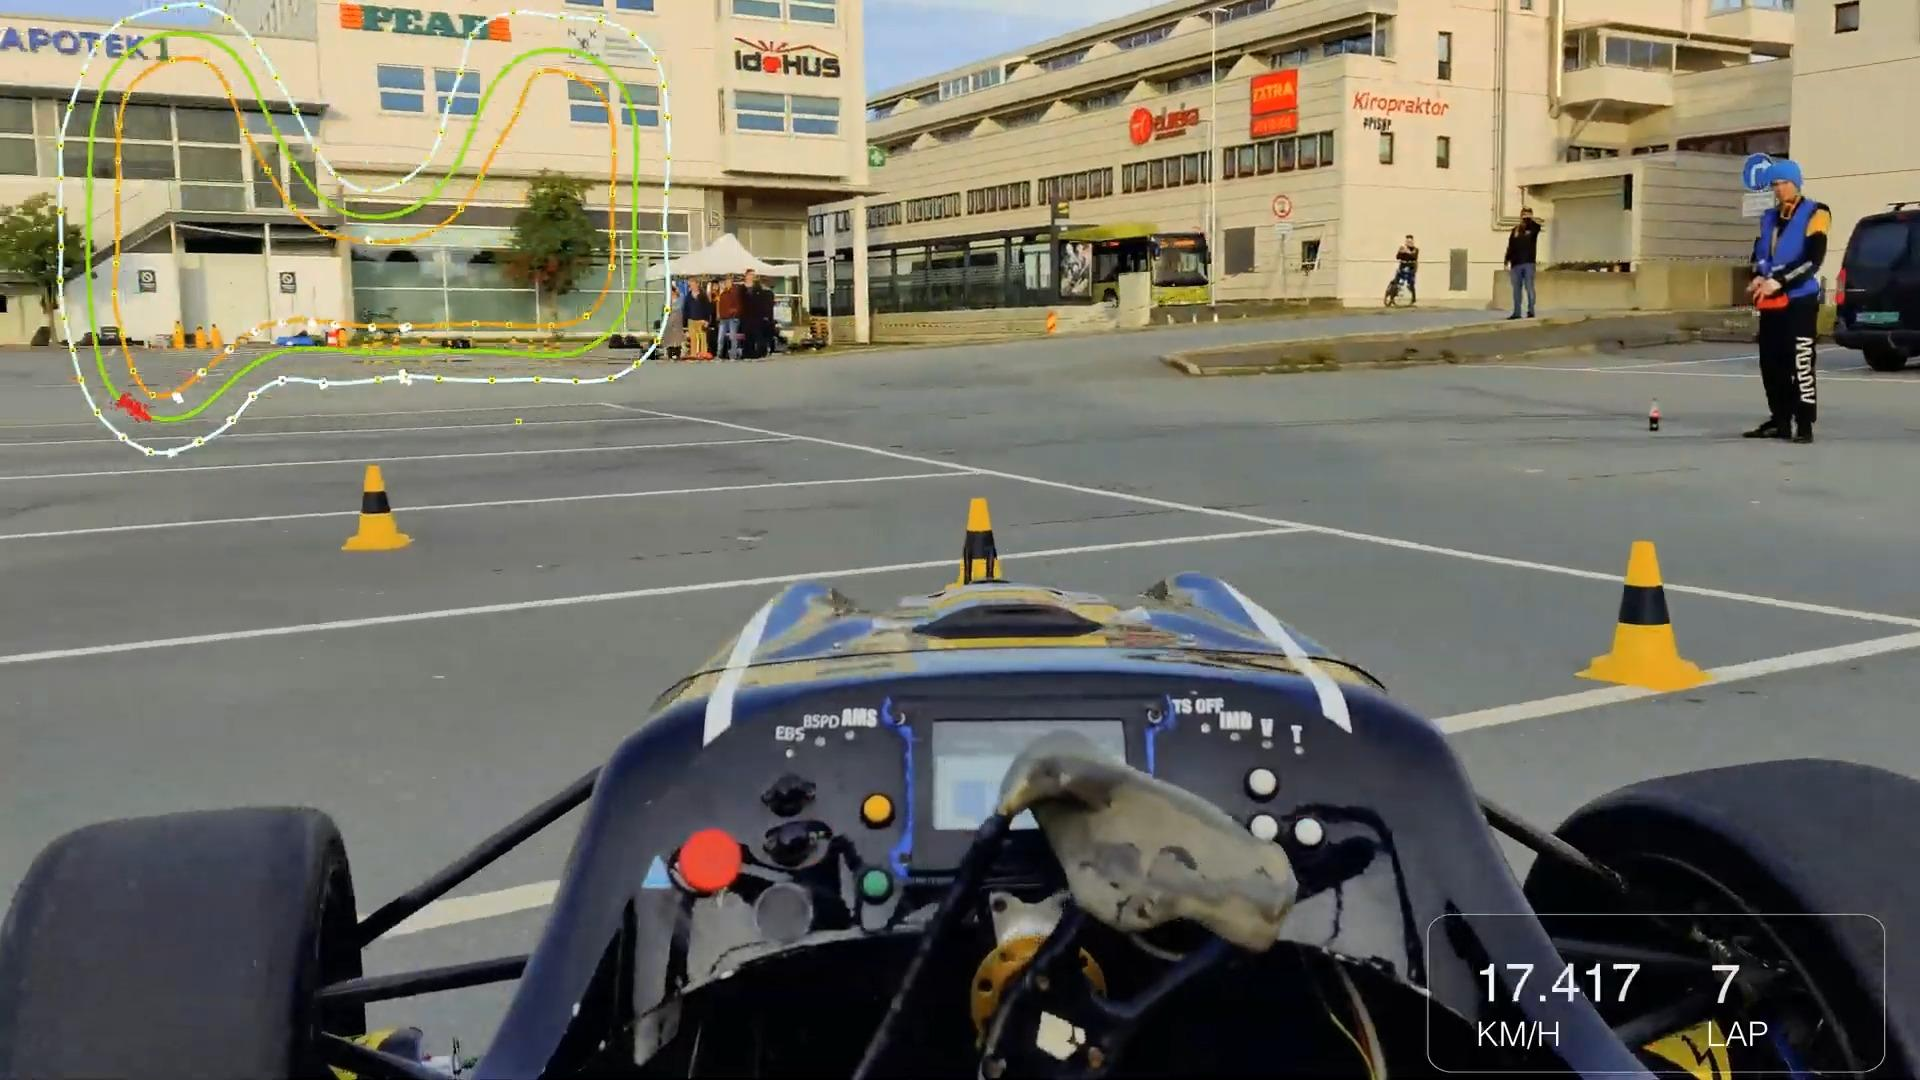yellow_cone: (1556, 538, 1720, 699), (924, 489, 1018, 599), (347, 459, 411, 562)
